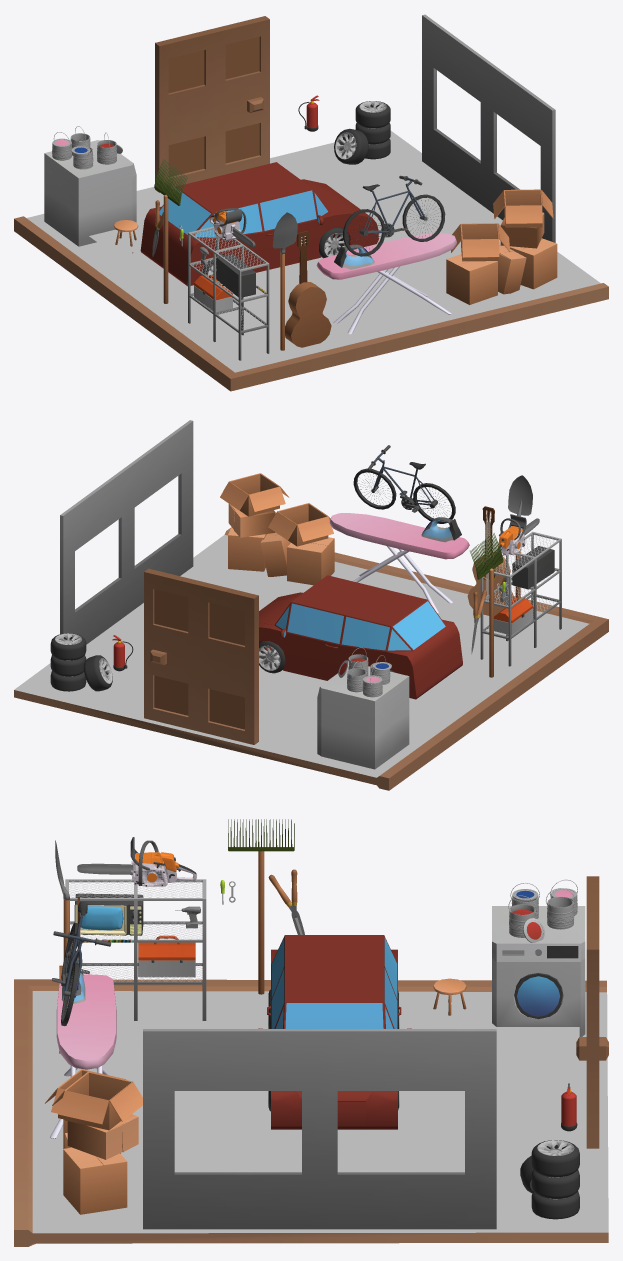
The model's file is GARAJE.fbx.
3 renders of one model, top to bottom at view 1: azimuth 30°, elevation 25°; view 2: azimuth 150°, elevation 25°; view 3: azimuth 270°, elevation 25°, orthographic. The views are drawn at different scales.
Parts seen in each view (by area): view 1: suelo6, puerta20, cotche1, puerta_garaje5, cajas1, lavadora1, plancha1, estanteria3, gitara1, ruedas1, bici1, instrumentos_paret1 (+6 smaller); view 2: suelo6, puerta20, cotche1, puerta_garaje5, cajas1, lavadora1, plancha1, estanteria3, ruedas1, bici1, instrumentos_paret1, pintura1 (+6 smaller); view 3: suelo6, puerta_garaje5, cotche1, cajas1, lavadora1, estanteria3, plancha1, puerta20, fombra5, ruedas1, instrumentos_paret1, pintura1 (+7 smaller).
Part boxes in pixels (x1=…): suelo6: x1=14, y1=131, x2=608, y2=391; puerta20: x1=155, y1=16, x2=269, y2=192; cotche1: x1=140, y1=162, x2=378, y2=286; puerta_garaje5: x1=422, y1=14, x2=555, y2=242; cajas1: x1=446, y1=189, x2=557, y2=304; lavadora1: x1=44, y1=140, x2=136, y2=246; plancha1: x1=316, y1=233, x2=456, y2=334; estanteria3: x1=188, y1=223, x2=269, y2=360; gitara1: x1=285, y1=231, x2=331, y2=347; ruedas1: x1=334, y1=101, x2=390, y2=164; bici1: x1=343, y1=175, x2=445, y2=256; instrumentos_paret1: x1=152, y1=159, x2=187, y2=303; suelo6: x1=14, y1=528, x2=608, y2=790; puerta20: x1=144, y1=568, x2=258, y2=744; cotche1: x1=259, y1=575, x2=462, y2=699; puerta_garaje5: x1=60, y1=420, x2=193, y2=644; cajas1: x1=220, y1=473, x2=334, y2=585; lavadora1: x1=317, y1=666, x2=409, y2=769; plancha1: x1=329, y1=513, x2=469, y2=613; estanteria3: x1=480, y1=531, x2=561, y2=666; ruedas1: x1=50, y1=633, x2=112, y2=691; bici1: x1=353, y1=445, x2=455, y2=523; instrumentos_paret1: x1=470, y1=533, x2=505, y2=677; pintura1: x1=338, y1=647, x2=391, y2=697; suelo6: x1=14, y1=979, x2=608, y2=1246; puerta_garaje5: x1=143, y1=1029, x2=496, y2=1229; cotche1: x1=258, y1=935, x2=411, y2=1129; cajas1: x1=45, y1=1069, x2=142, y2=1214; lavadora1: x1=492, y1=906, x2=585, y2=1036; estanteria3: x1=65, y1=879, x2=206, y2=1020; plancha1: x1=50, y1=956, x2=116, y2=1138; puerta20: x1=576, y1=876, x2=608, y2=1148; fombra5: x1=416, y1=994, x2=579, y2=1045; ruedas1: x1=520, y1=1140, x2=579, y2=1219; instrumentos_paret1: x1=220, y1=819, x2=304, y2=994; pintura1: x1=508, y1=879, x2=577, y2=942.
Bounding box in the file's own units: 889 × 352 × 892.
